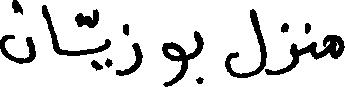X: (226, 4, 264, 82), (77, 4, 110, 75), (0, 0, 33, 68), (266, 18, 296, 79), (117, 19, 140, 80), (164, 37, 184, 86), (42, 0, 57, 58), (330, 30, 344, 63), (195, 26, 201, 86), (307, 18, 315, 63)
